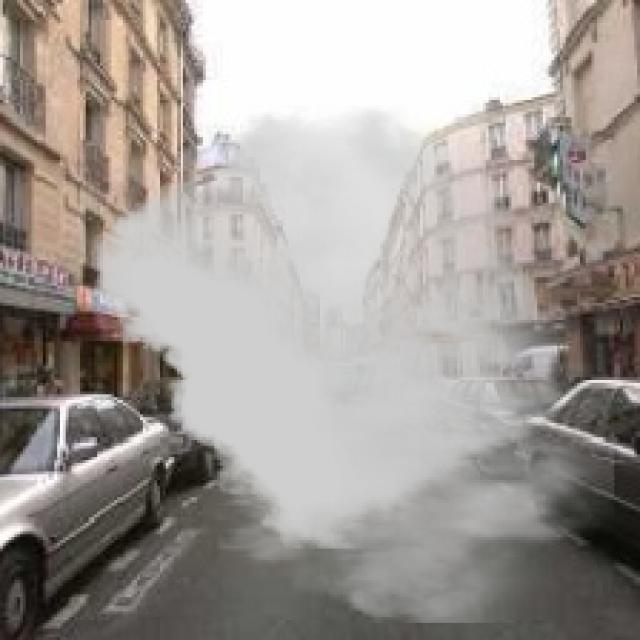smoke: (95, 106, 614, 623)
